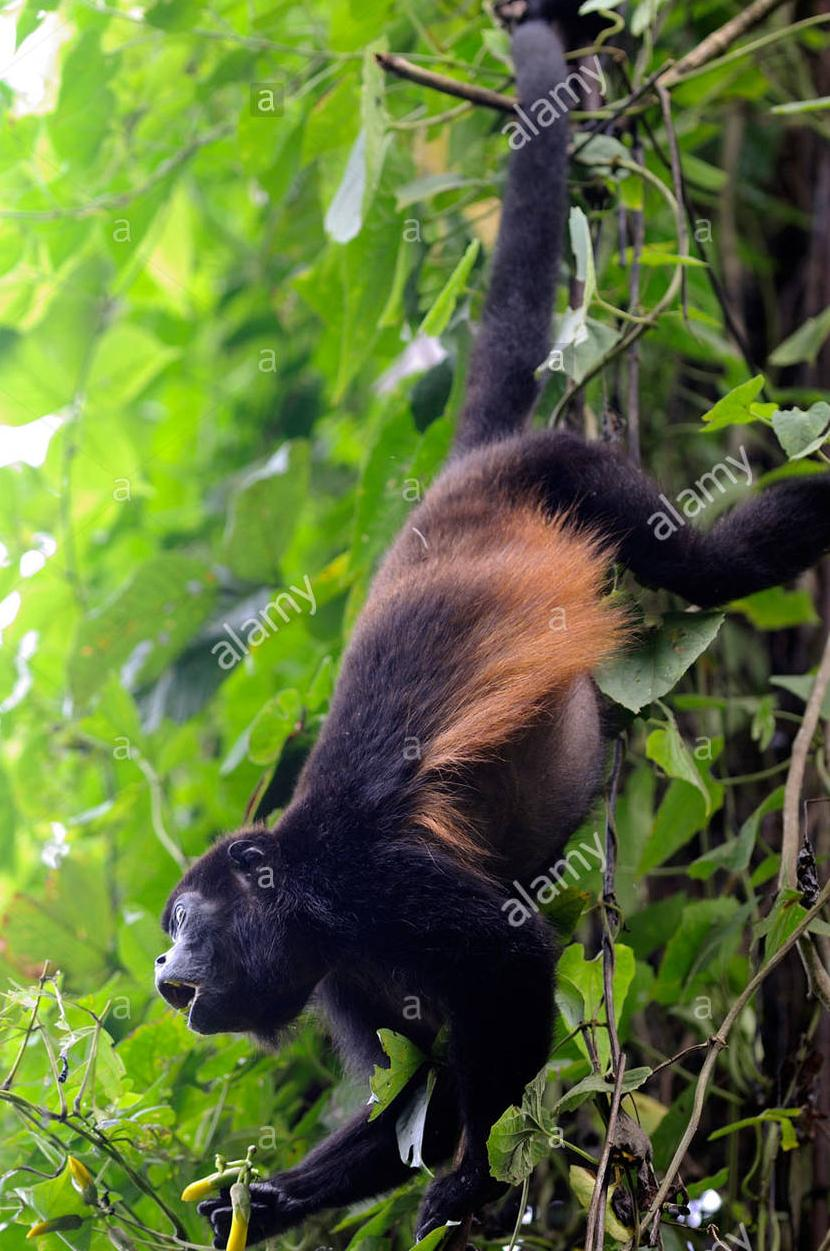monkey: (155, 0, 829, 1242)
